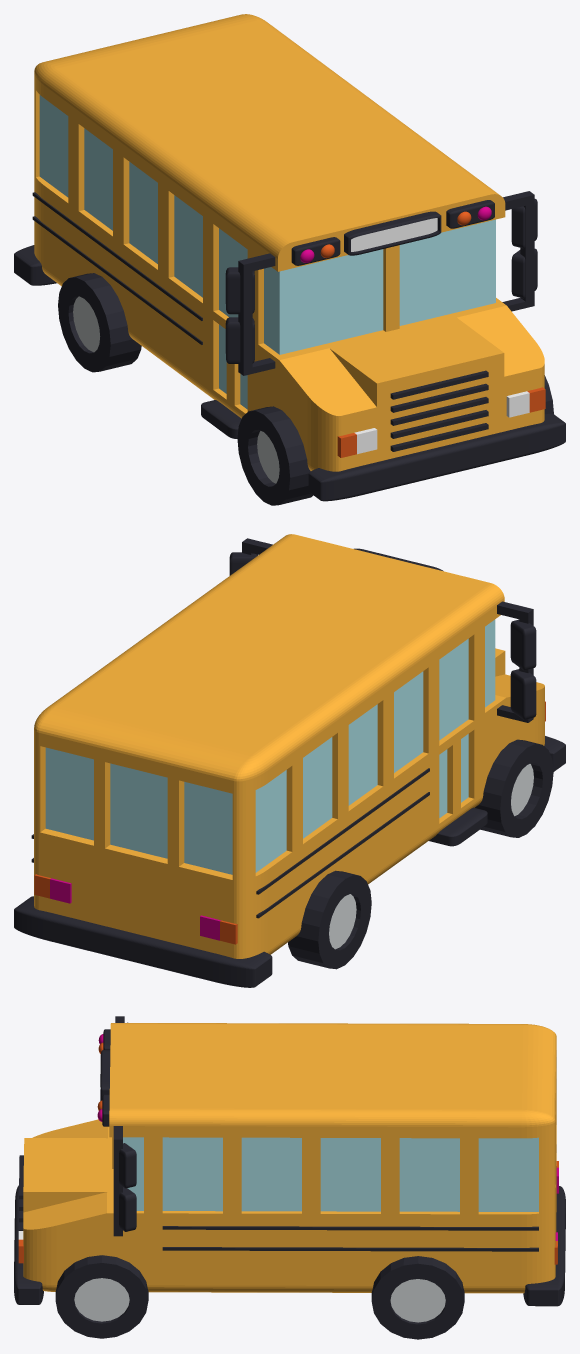
Rendered from bussTest3.glb.
The picture shows the model from 3 angles, top to bottom: view 1: azimuth 30°, elevation 25°; view 2: azimuth 150°, elevation 25°; view 3: azimuth 270°, elevation 25°; orthographic projection. The views are drawn at different scales.
Parts seen in each view (by area): view 1: obj_0; view 2: obj_0; view 3: obj_0.
Boxes of the visible parts, left/top/right/bottom form: obj_0: left=14, top=14, right=565, bottom=505; obj_0: left=14, top=534, right=565, bottom=987; obj_0: left=14, top=1016, right=565, bottom=1339.
Size of the model in its own units: 6.61 by 5.07 by 11.7.
